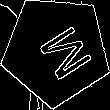M_SW: (23, 17, 89, 84)
